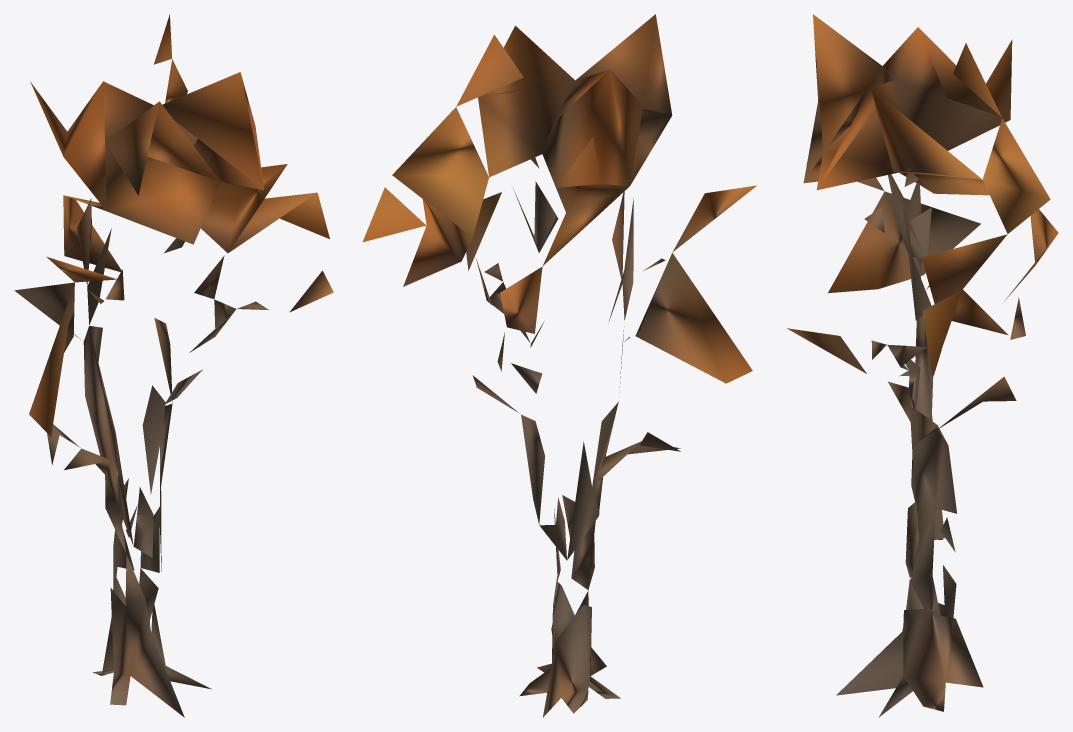
File: ginkgo_b_l2.glb
The picture shows the model from 3 angles, left to right: view 1: azimuth 30°, elevation 25°; view 2: azimuth 150°, elevation 25°; view 3: azimuth 270°, elevation 25°; orthographic projection. The views are drawn at different scales.
Visible parts, largest first — view 1: crown, trunk; view 2: crown, trunk; view 3: crown, trunk.
Part boxes in pixels (x1=…): crown: x1=14, y1=14, x2=333, y2=436; trunk: x1=47, y1=198, x2=269, y2=717; crown: x1=362, y1=14, x2=756, y2=383; trunk: x1=473, y1=143, x2=680, y2=717; crown: x1=787, y1=14, x2=1058, y2=375; trunk: x1=836, y1=168, x2=1025, y2=717.
Size of the model in its own units: 5.92 by 11.01 by 4.
